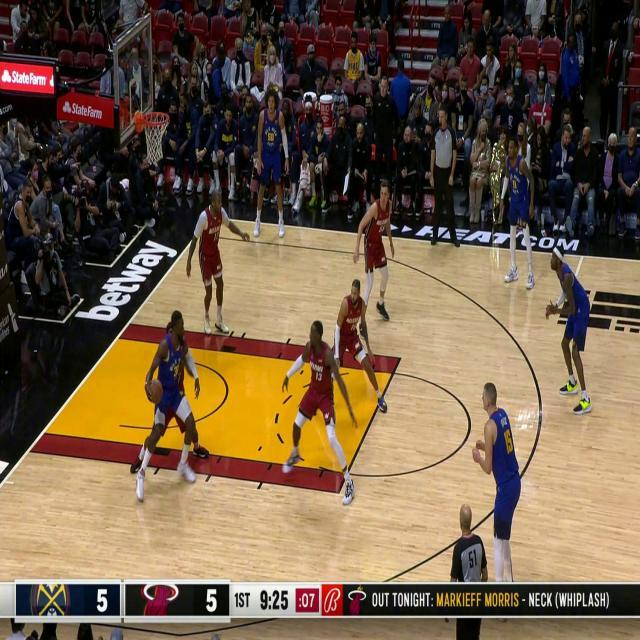rim: (148, 377, 162, 402)
